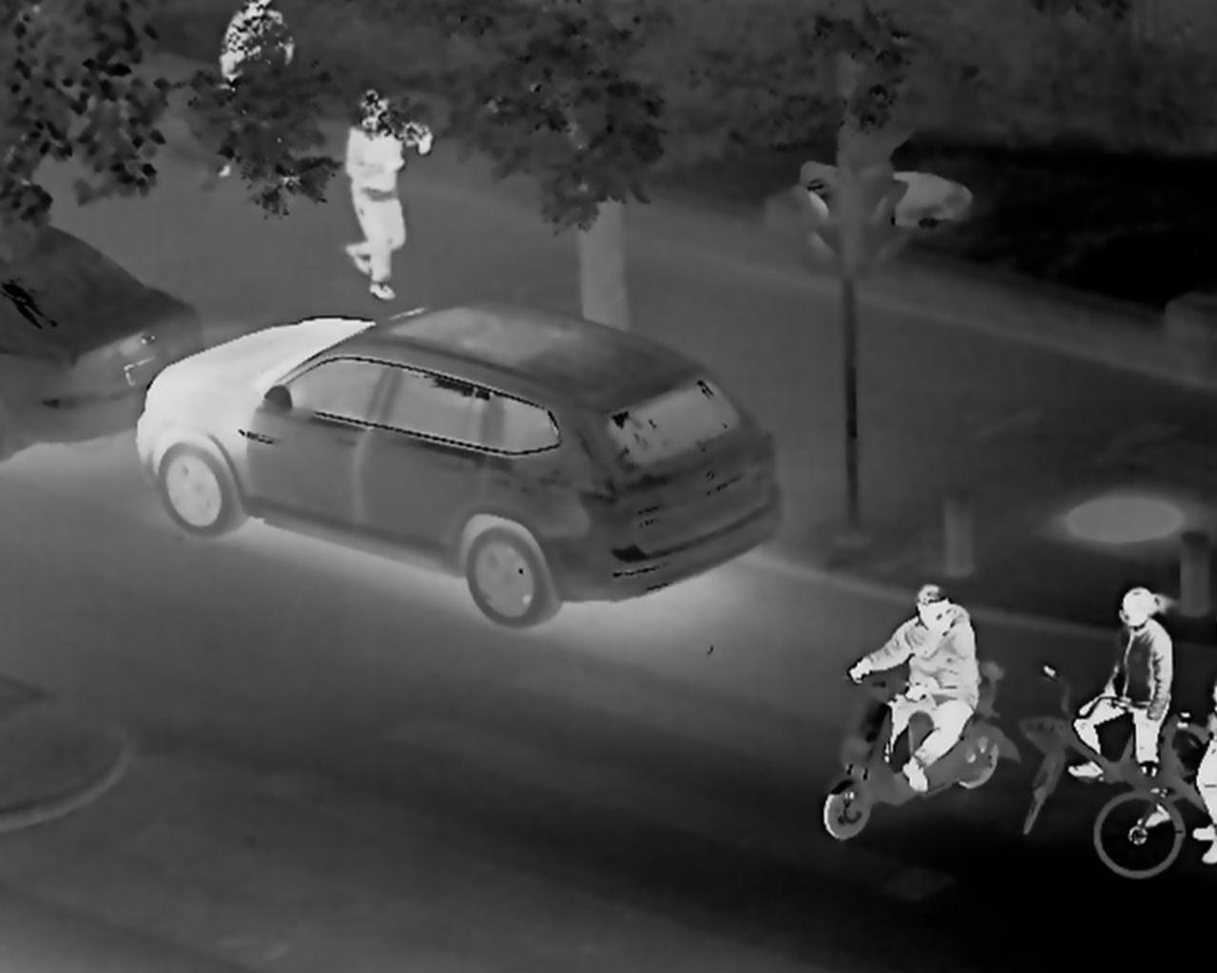person: (846, 578, 981, 792), (1065, 584, 1173, 829), (335, 90, 435, 302)
